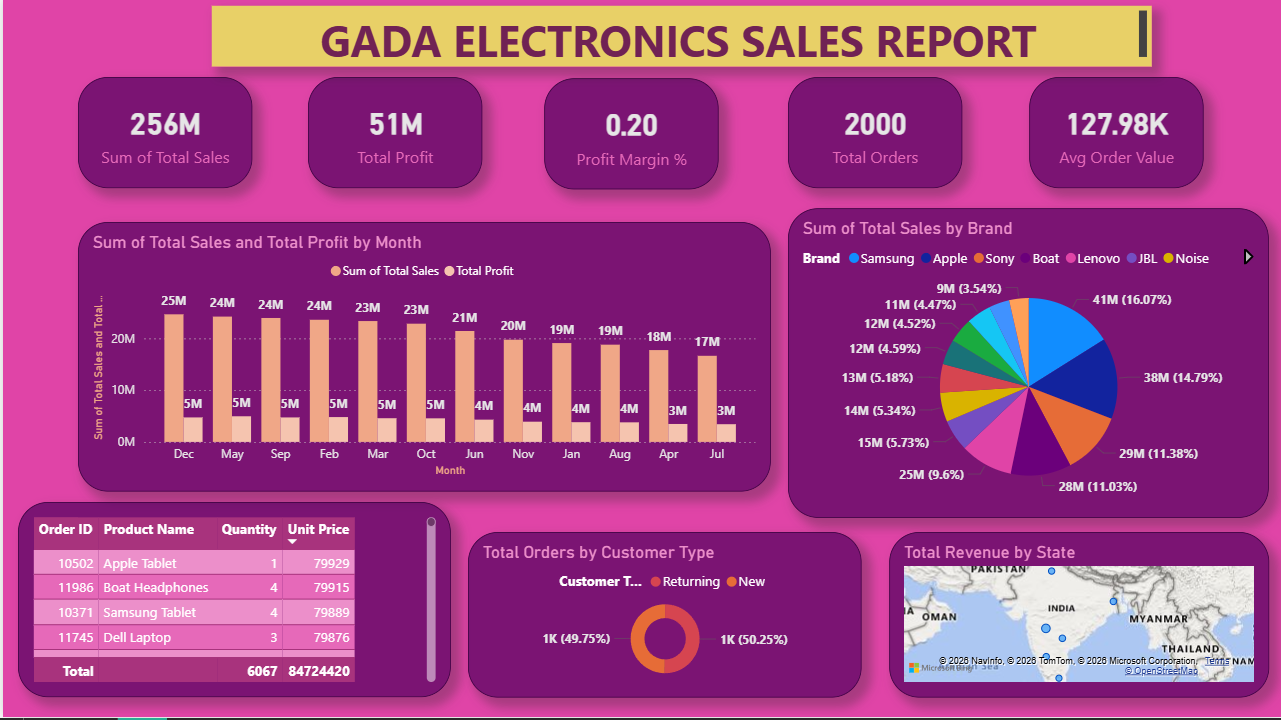

This screenshot's page, from the dashboard's own definition file:
{"tool":"powerbi","page":{"name":"Page 1","canvas":[1280,720],"ordinal":0},"visuals":[{"type":"card","fields":{"Values":["Sum(Electronic_Sales_Data.Total Sales)"]},"box":[74.4,80.5,174.4,111],"z":0},{"type":"card","fields":{"Values":["Electronic_Sales_Data.Total Profit"]},"box":[304.9,80.5,174.4,111],"z":1000},{"type":"card","fields":{"Values":["Electronic_Sales_Data.Avg Order Value"]},"box":[1026.8,80.5,174.4,111],"z":2000},{"type":"card","fields":{"Values":["Electronic_Sales_Data.Profit Margin %"]},"box":[541.5,81.7,174.4,111],"z":3000},{"type":"card","fields":{"Values":["Electronic_Sales_Data.Total Orders"]},"box":[785.4,80.5,174.4,111],"z":4000},{"type":"clusteredColumnChart","fields":{"Y":["Sum(Electronic_Sales_Data.Total Sales)","Electronic_Sales_Data.Total Profit"],"Category":["Date Table.Month"]},"box":[74.4,225.6,692.7,269.5],"z":5000},{"type":"pieChart","fields":{"Category":["Electronic_Sales_Data.Brand"],"Y":["Sum(Electronic_Sales_Data.Total Sales)"]},"box":[785.3,211,481,309.2],"z":6000},{"type":"textbox","box":[208.5,8.5,940.2,61],"z":7000},{"type":"tableEx","fields":{"Values":["Electronic_Sales_Data.Order ID","Electronic_Sales_Data.Product Name","Sum(Electronic_Sales_Data.Quantity)","Sum(Electronic_Sales_Data.Unit Price)"]},"box":[14.7,505.5,433.1,195.1],"z":7001},{"type":"donutChart","fields":{"Category":["Electronic_Sales_Data.Customer Type"],"Y":["Electronic_Sales_Data.Total Orders"]},"box":[465,535,393.9,165.6],"z":7002},{"type":"map","fields":{"Category":["Electronic_Sales_Data.State"],"Size":["Electronic_Sales_Data.Total Revenue"]},"box":[885.9,535,380.4,165.6],"z":7003}]}

Visuals, with their boxes in screenshot pixels (x1, y1, x2, y2), scaled from the page's 1280x720 canvas onto the 1281x720 screenshot:
card - Sum(Electronic_Sales_Data.Total Sales): bbox(74, 80, 249, 192)
card - Electronic_Sales_Data.Total Profit: bbox(305, 80, 480, 192)
card - Electronic_Sales_Data.Avg Order Value: bbox(1028, 80, 1202, 192)
card - Electronic_Sales_Data.Profit Margin %: bbox(542, 82, 716, 193)
card - Electronic_Sales_Data.Total Orders: bbox(786, 80, 961, 192)
clusteredColumnChart - Sum(Electronic_Sales_Data.Total Sales) x Electronic_Sales_Data.Total Profit: bbox(74, 226, 768, 495)
pieChart - Electronic_Sales_Data.Brand x Sum(Electronic_Sales_Data.Total Sales): bbox(786, 211, 1267, 520)
textbox: bbox(209, 8, 1150, 70)
tableEx - Electronic_Sales_Data.Order ID x Electronic_Sales_Data.Product Name: bbox(15, 506, 448, 701)
donutChart - Electronic_Sales_Data.Customer Type x Electronic_Sales_Data.Total Orders: bbox(465, 535, 860, 701)
map - Electronic_Sales_Data.State x Electronic_Sales_Data.Total Revenue: bbox(887, 535, 1267, 701)
